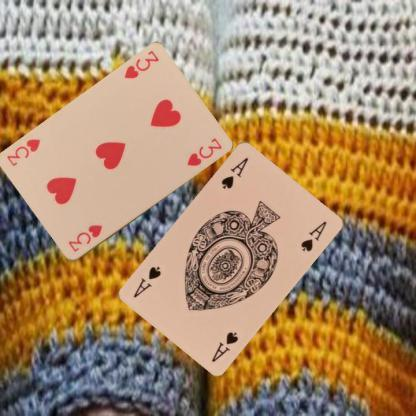3h: (65, 222, 104, 254), (121, 48, 160, 80)
As: (218, 154, 250, 190), (209, 328, 240, 364)
